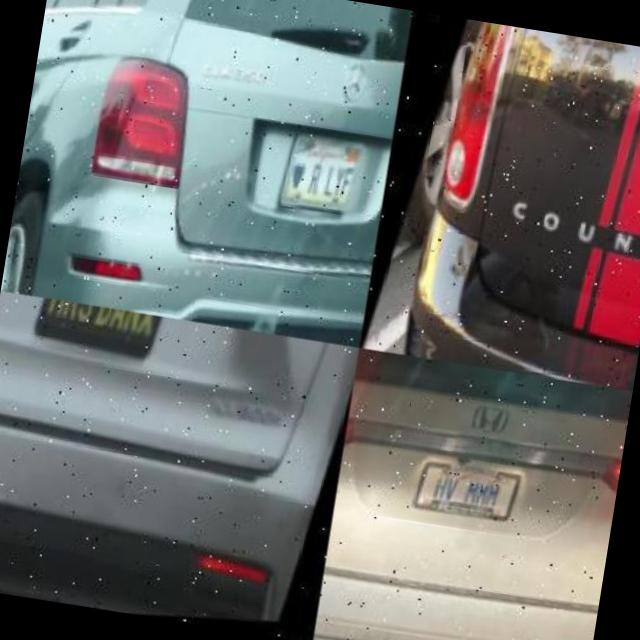LicensePlate: (35, 299, 177, 386), (280, 130, 378, 232), (413, 466, 527, 530)
